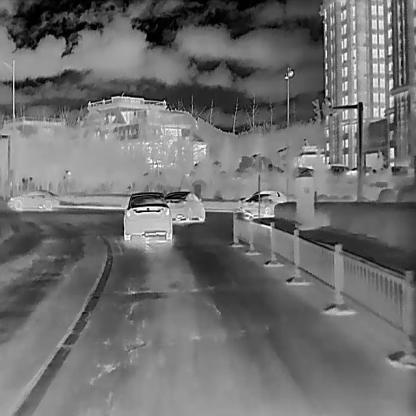car: (122, 190, 172, 240), (163, 190, 206, 222), (7, 189, 59, 212), (239, 193, 280, 218), (238, 188, 287, 206)
